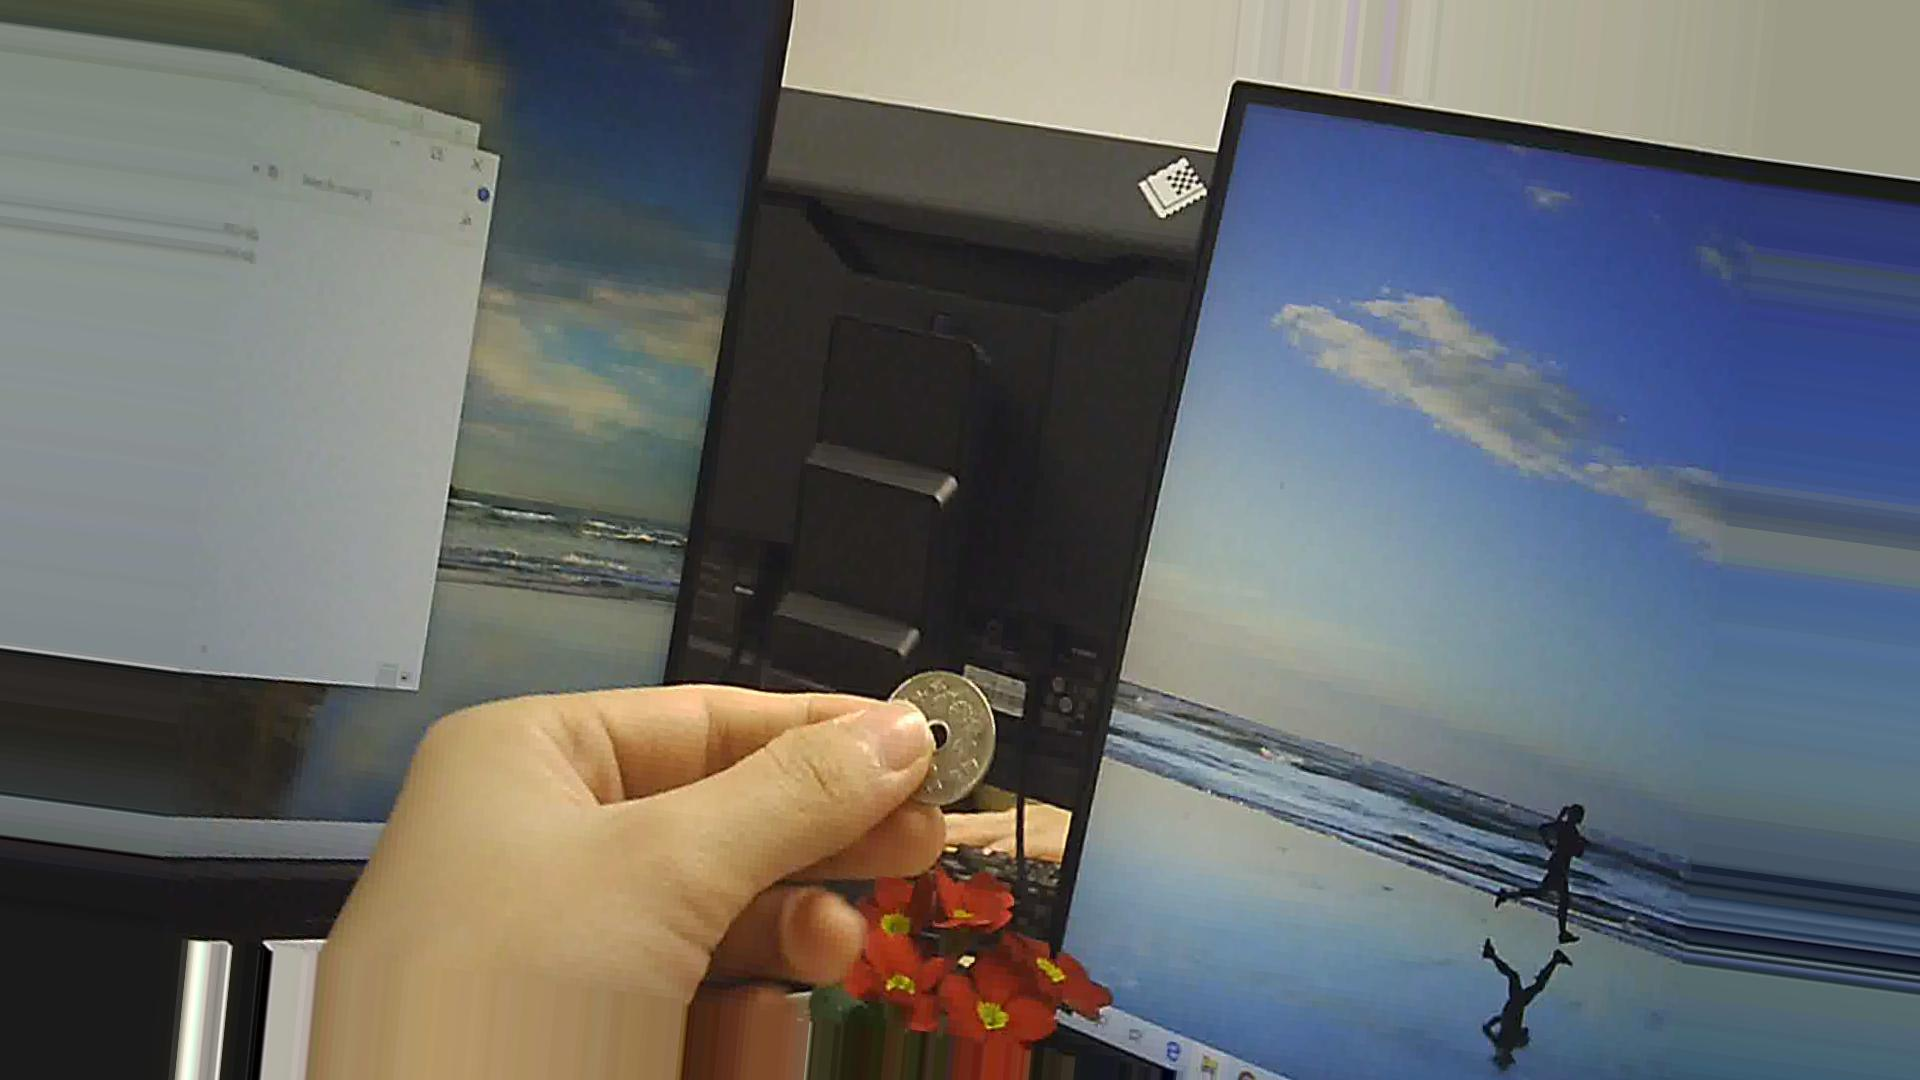50 Yen: (874, 659, 1002, 812)
